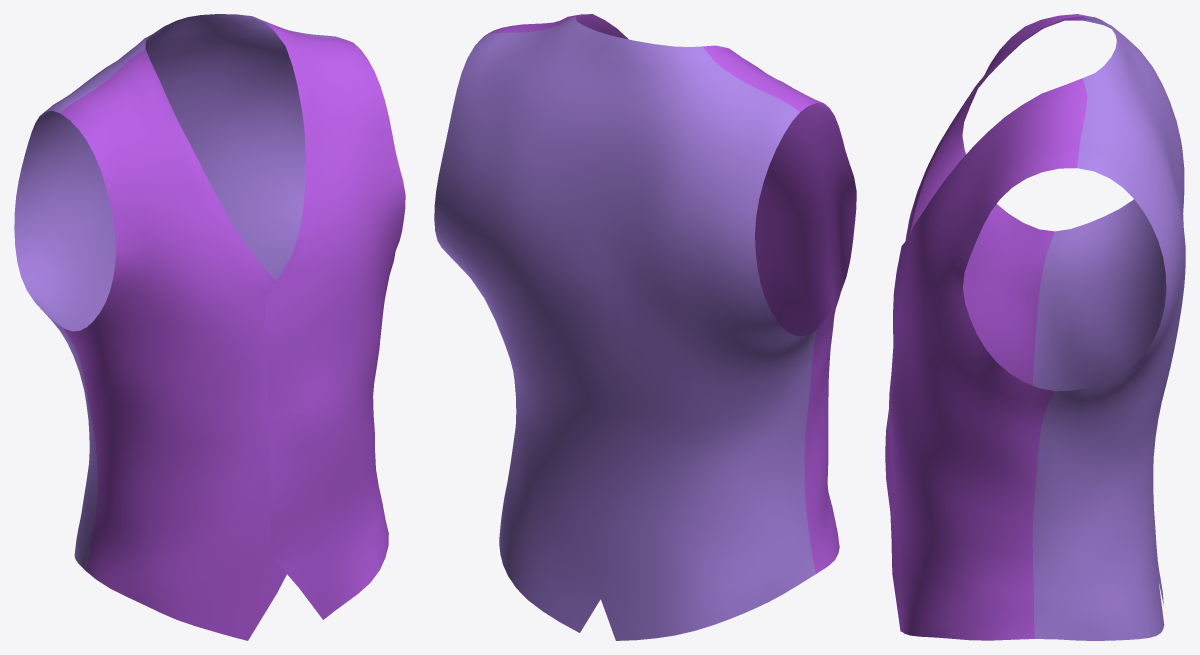
Rendered from Waistcoat_01_02.fbx.
The picture shows the model from 3 angles, left to right: view 1: azimuth 30°, elevation 25°; view 2: azimuth 150°, elevation 25°; view 3: azimuth 270°, elevation 25°; orthographic projection. The views are drawn at different scales.
Parts seen in each view (by area): view 1: Test_2; view 2: Test_2; view 3: Test_2.
Part boxes in pixels (box(x1,y1,x2,y2)): Test_2: box(14, 14, 405, 640); Test_2: box(434, 14, 856, 640); Test_2: box(885, 14, 1185, 640).
Size of the model in its own units: 37.51 by 60.46 by 28.63.
